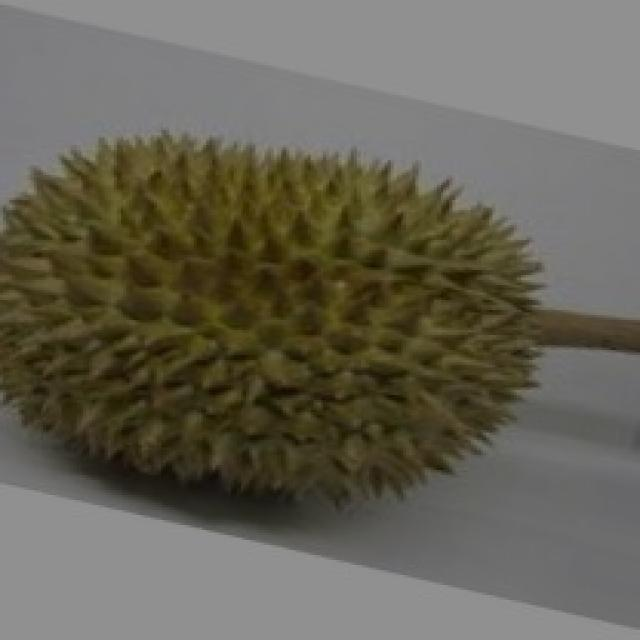fruit: (243, 128, 600, 562), (0, 100, 342, 528)
